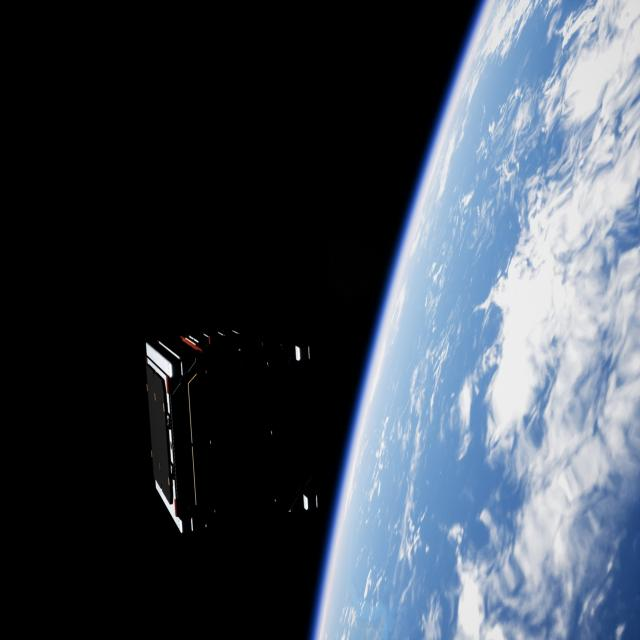medium_debris: (139, 316, 332, 531)
